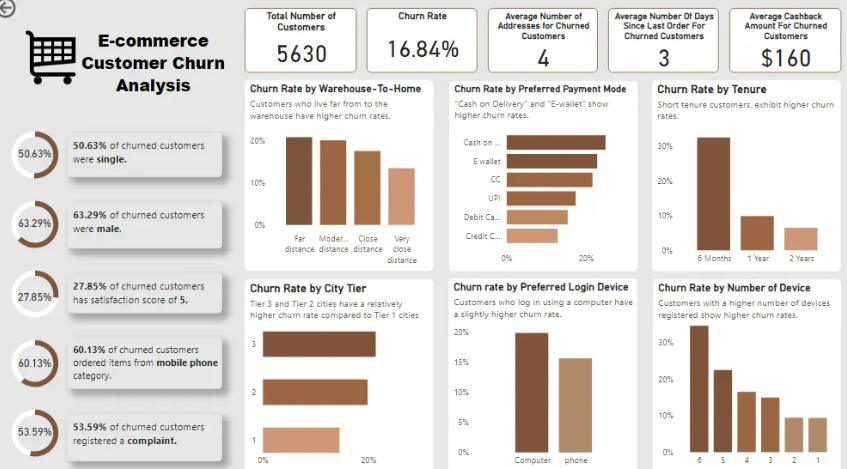

This screenshot's page, from the dashboard's own definition file:
{"tool":"powerbi","page":{"name":"Customer Churn Dashboard","canvas":[1280,720],"ordinal":0},"visuals":[{"type":"textbox","box":[38.3,13.3,370,155],"z":0},{"type":"donutChart","fields":{"Y":["ecommerce_churn ecommerce_dataset.Single Churn %","ecommerce_churn ecommerce_dataset.Complaint %"]},"box":[0,590.9,156.7,125.7],"z":0,"group":"g1"},{"type":"cardVisual","title":"Churn Rate","fields":{"Data":["ecommerce_churn ecommerce_dataset.Churn Rate"]},"box":[551.7,18.3,160,111.7],"z":1000,"group":"g7"},{"type":"columnChart","title":"Churn Rate by Warehouse-To-Home","fields":{"Category":["ecommerce_churn ecommerce_dataset.WarehouseToHomeRange"],"Y":["ecommerce_churn ecommerce_dataset.Churn Rate"]},"box":[408.3,155,286.7,276.7],"z":1000},{"type":"cardVisual","fields":{"Data":["ecommerce_churn ecommerce_dataset.Complaint %"]},"box":[20.9,621.8,163.2,63.7],"z":1000,"group":"g1"},{"type":"cardVisual","title":"Average Number of Addresses for Churned Customers ","fields":{"Data":["ecommerce_churn ecommerce_dataset.Avg Addresses (Churned)"]},"box":[718.3,18.3,160,111.7],"z":2000,"group":"g9"},{"type":"columnChart","title":"Churn Rate by Tenure","fields":{"Category":["ecommerce_churn ecommerce_dataset.TenureRange"],"Y":["ecommerce_churn ecommerce_dataset.Churn Rate"]},"box":[1010,153.3,251.7,278.3],"z":2000},{"type":"textbox","box":[130.5,621,260.7,65.1],"z":2000,"group":"g1"},{"type":"cardVisual","title":"Average Number Of Days Since Last Order For Churned Customers ","fields":{"Data":["ecommerce_churn ecommerce_dataset.Avg Days Since Last Order"]},"box":[893.3,18.3,171.7,113.3],"z":3000,"group":"g10"},{"type":"clusteredBarChart","fields":{"Category":["ecommerce_churn ecommerce_dataset.CityTier"],"Y":["ecommerce_churn ecommerce_dataset.Churn Rate"]},"box":[408.3,445,286.7,253.3],"z":3000},{"type":"cardVisual","title":"Average Cashback Amount For Churned Customers","fields":{"Data":["ecommerce_churn ecommerce_dataset.Avg Cashback (Churned)"]},"box":[1073.3,18.3,188.3,113.3],"z":4000,"group":"g11"},{"type":"columnChart","title":"Churn Rate by Preferred Login Device","fields":{"Category":["ecommerce_churn ecommerce_dataset.PreferredLoginDevice"],"Y":["ecommerce_churn ecommerce_dataset.Churn Rate"]},"box":[711.7,445,281.7,251.7],"z":4000},{"type":"cardVisual","fields":{"Data":["ecommerce_churn ecommerce_dataset.Total Customers"]},"box":[413.3,18.3,131.7,113.3],"z":5000,"group":"g5"},{"type":"clusteredBarChart","title":"Churn Rate by Preferred Payment Mode","fields":{"Category":["ecommerce_churn ecommerce_dataset.PreferredPaymentMode"],"Y":["ecommerce_churn ecommerce_dataset.Churn Rate"]},"box":[711.7,155,281.7,278.3],"z":5000},{"type":"group","id":"g1","title":"Group 1","box":[0,590.9,391.8,125.7],"z":5000,"group":"g3"},{"type":"group","id":"g2","title":"Group 2","box":[0,133,391.7,125.7],"z":6000,"group":"g3"},{"type":"donutChart","fields":{"Category":["ecommerce_churn ecommerce_dataset.CustomerStatus"],"Y":["ecommerce_churn ecommerce_dataset.Single Churn %"]},"box":[0,133,155.8,125.7],"z":6000,"group":"g2"},{"type":"columnChart","fields":{"Category":["ecommerce_churn ecommerce_dataset.NumberOfDeviceRegistered"],"Y":["ecommerce_churn ecommerce_dataset.Churn Rate"]},"box":[1010,445,251.7,253.3],"z":6000},{"type":"donutChart","fields":{"Y":["ecommerce_churn ecommerce_dataset.Single Churn %","ecommerce_churn ecommerce_dataset.Mobile Category %"]},"box":[0,475.6,156.4,125.7],"z":6000,"group":"g8"},{"type":"group","id":"g3","title":"Group 6","box":[0,133,395,583.7],"z":7000},{"type":"textbox","box":[130,169.7,261.7,70],"z":7000,"group":"g2"},{"type":"group","id":"g4","title":"Group 3","box":[0,246.9,395,125.7],"z":7000,"group":"g3"},{"type":"cardVisual","fields":{"Data":["ecommerce_churn ecommerce_dataset.Mobile Category %"]},"box":[24.3,504.1,134.8,61.4],"z":7000,"group":"g8"},{"type":"group","id":"g5","title":"Group 7","box":[413.3,18.3,131.7,113.3],"z":8000},{"type":"cardVisual","fields":{"Data":["ecommerce_churn ecommerce_dataset.Single Churn %"]},"box":[20.6,167.7,168.1,61.4],"z":8000,"group":"g2"},{"type":"group","id":"g6","title":"Group 4","box":[0,362.1,393.3,125.7],"z":8000,"group":"g3"},{"type":"textbox","box":[130,506.2,263.3,63.3],"z":8000,"group":"g8"},{"type":"group","id":"g7","title":"Group 8","box":[551.7,18.3,160,111.7],"z":9000},{"type":"donutChart","fields":{"Y":["ecommerce_churn ecommerce_dataset.Single Churn %","ecommerce_churn ecommerce_dataset.Male Churn %"]},"box":[0,246.9,156.4,125.7],"z":9000,"group":"g4"},{"type":"group","id":"g8","title":"Group 5","box":[0,475.6,393.3,125.7],"z":9000,"group":"g3"},{"type":"group","id":"g9","title":"Group 9","box":[718.3,18.3,160,111.7],"z":10000},{"type":"cardVisual","fields":{"Data":["ecommerce_churn ecommerce_dataset.Male Churn %"]},"box":[21.3,281.2,170.8,55.6],"z":10000,"group":"g4"},{"type":"group","id":"g10","title":"Group 10","box":[893.3,18.3,171.7,113.3],"z":11000},{"type":"textbox","box":[130,280.5,265,63.3],"z":11000,"group":"g4"},{"type":"group","id":"g11","title":"Group 11","box":[1073.3,18.3,188.3,113.3],"z":12000},{"type":"donutChart","fields":{"Y":["ecommerce_churn ecommerce_dataset.Single Churn %","ecommerce_churn ecommerce_dataset.Satisfaction Score 5 %"]},"box":[0,362.1,156.4,125.7],"z":12000,"group":"g6"},{"type":"textbox","box":[426.6,21.4,111,50.5],"z":12001,"group":"g5"},{"type":"textbox","box":[568.4,24,136,36.4],"z":12002,"group":"g7"},{"type":"textbox","box":[731.4,23.4,132.2,66.6],"z":12003,"group":"g9"},{"type":"textbox","box":[905.8,19.9,159.2,71.4],"z":12004,"group":"g10"},{"type":"textbox","box":[1079.7,21.4,175.5,54.3],"z":12005,"group":"g11"},{"type":"cardVisual","fields":{"Data":["ecommerce_churn ecommerce_dataset.Satisfaction Score 5 %"]},"box":[19.7,397.3,125.5,61.4],"z":13000,"group":"g6"},{"type":"textbox","box":[130,396.9,263.3,65],"z":14000,"group":"g6"}]}

Visuals, with their boxes in screenshot pixels (x1, y1, x2, y2), scaled from the page's 1280x720 canvas onto the 847x469 screenshot:
textbox: <box>25,9,270,110</box>
donutChart - ecommerce_churn ecommerce_dataset.Single Churn % x ecommerce_churn ecommerce_dataset.Complaint %: <box>0,385,104,467</box>
"Churn Rate" cardVisual: <box>365,12,471,85</box>
"Churn Rate by Warehouse-To-Home" columnChart: <box>270,101,460,281</box>
cardVisual - ecommerce_churn ecommerce_dataset.Complaint %: <box>14,405,122,447</box>
"Average Number of Addresses for Churned Customers " cardVisual: <box>475,12,581,85</box>
"Churn Rate by Tenure" columnChart: <box>668,100,835,281</box>
textbox: <box>86,405,259,447</box>
"Average Number Of Days Since Last Order For Churned Customers " cardVisual: <box>591,12,705,86</box>
clusteredBarChart - ecommerce_churn ecommerce_dataset.CityTier x ecommerce_churn ecommerce_dataset.Churn Rate: <box>270,290,460,455</box>
"Average Cashback Amount For Churned Customers" cardVisual: <box>710,12,835,86</box>
"Churn Rate by Preferred Login Device" columnChart: <box>471,290,657,454</box>
cardVisual - ecommerce_churn ecommerce_dataset.Total Customers: <box>273,12,361,86</box>
"Churn Rate by Preferred Payment Mode" clusteredBarChart: <box>471,101,657,282</box>
"Group 1" group: <box>0,385,259,467</box>
"Group 2" group: <box>0,87,259,169</box>
donutChart - ecommerce_churn ecommerce_dataset.CustomerStatus x ecommerce_churn ecommerce_dataset.Single Churn %: <box>0,87,103,169</box>
columnChart - ecommerce_churn ecommerce_dataset.NumberOfDeviceRegistered x ecommerce_churn ecommerce_dataset.Churn Rate: <box>668,290,835,455</box>
donutChart - ecommerce_churn ecommerce_dataset.Single Churn % x ecommerce_churn ecommerce_dataset.Mobile Category %: <box>0,310,103,392</box>
"Group 6" group: <box>0,87,261,467</box>
textbox: <box>86,111,259,156</box>
"Group 3" group: <box>0,161,261,243</box>
cardVisual - ecommerce_churn ecommerce_dataset.Mobile Category %: <box>16,328,105,368</box>
"Group 7" group: <box>273,12,361,86</box>
cardVisual - ecommerce_churn ecommerce_dataset.Single Churn %: <box>14,109,125,149</box>
"Group 4" group: <box>0,236,260,318</box>
textbox: <box>86,330,260,371</box>
"Group 8" group: <box>365,12,471,85</box>
donutChart - ecommerce_churn ecommerce_dataset.Single Churn % x ecommerce_churn ecommerce_dataset.Male Churn %: <box>0,161,103,243</box>
"Group 5" group: <box>0,310,260,392</box>
"Group 9" group: <box>475,12,581,85</box>
cardVisual - ecommerce_churn ecommerce_dataset.Male Churn %: <box>14,183,127,219</box>
"Group 10" group: <box>591,12,705,86</box>
textbox: <box>86,183,261,224</box>
"Group 11" group: <box>710,12,835,86</box>
donutChart - ecommerce_churn ecommerce_dataset.Single Churn % x ecommerce_churn ecommerce_dataset.Satisfaction Score 5 %: <box>0,236,103,318</box>
textbox: <box>282,14,356,47</box>
textbox: <box>376,16,466,39</box>
textbox: <box>484,15,571,59</box>
textbox: <box>599,13,705,59</box>
textbox: <box>714,14,831,49</box>
cardVisual - ecommerce_churn ecommerce_dataset.Satisfaction Score 5 %: <box>13,259,96,299</box>
textbox: <box>86,259,260,301</box>
